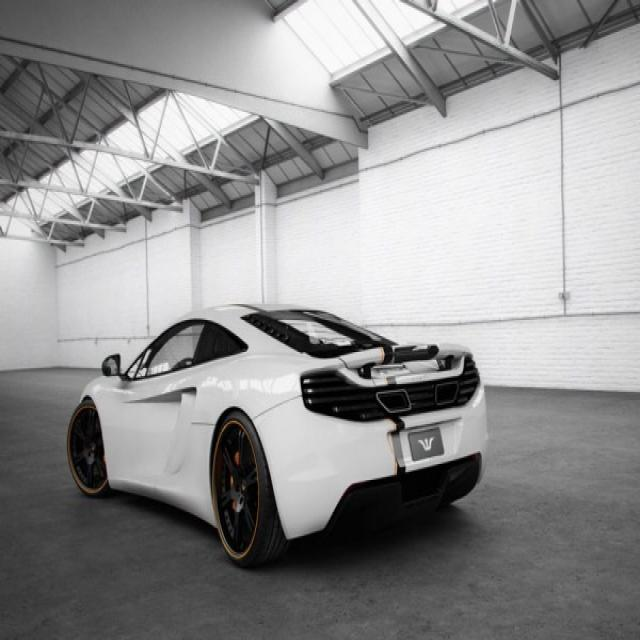car: (66, 302, 487, 570)
